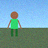person: (7, 12, 21, 36)
